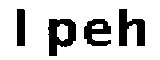e: (82, 17, 114, 52)
h: (116, 2, 147, 49)
l: (10, 5, 33, 49)
p: (42, 16, 80, 60)
